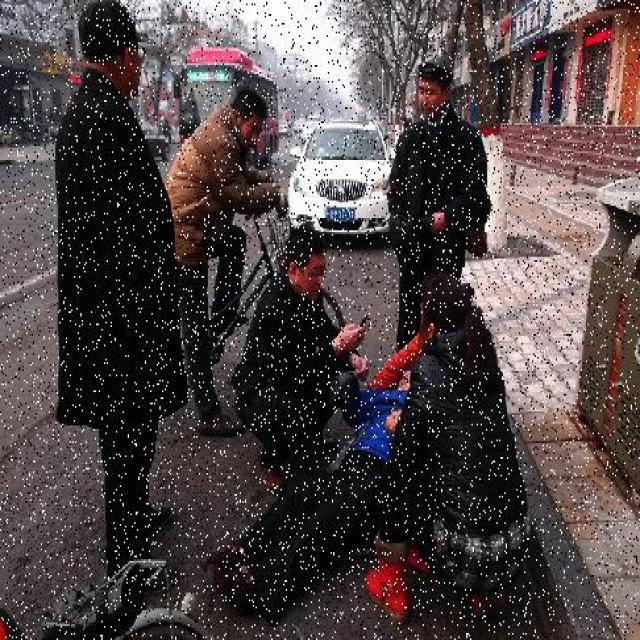fall: (233, 367, 425, 598)
